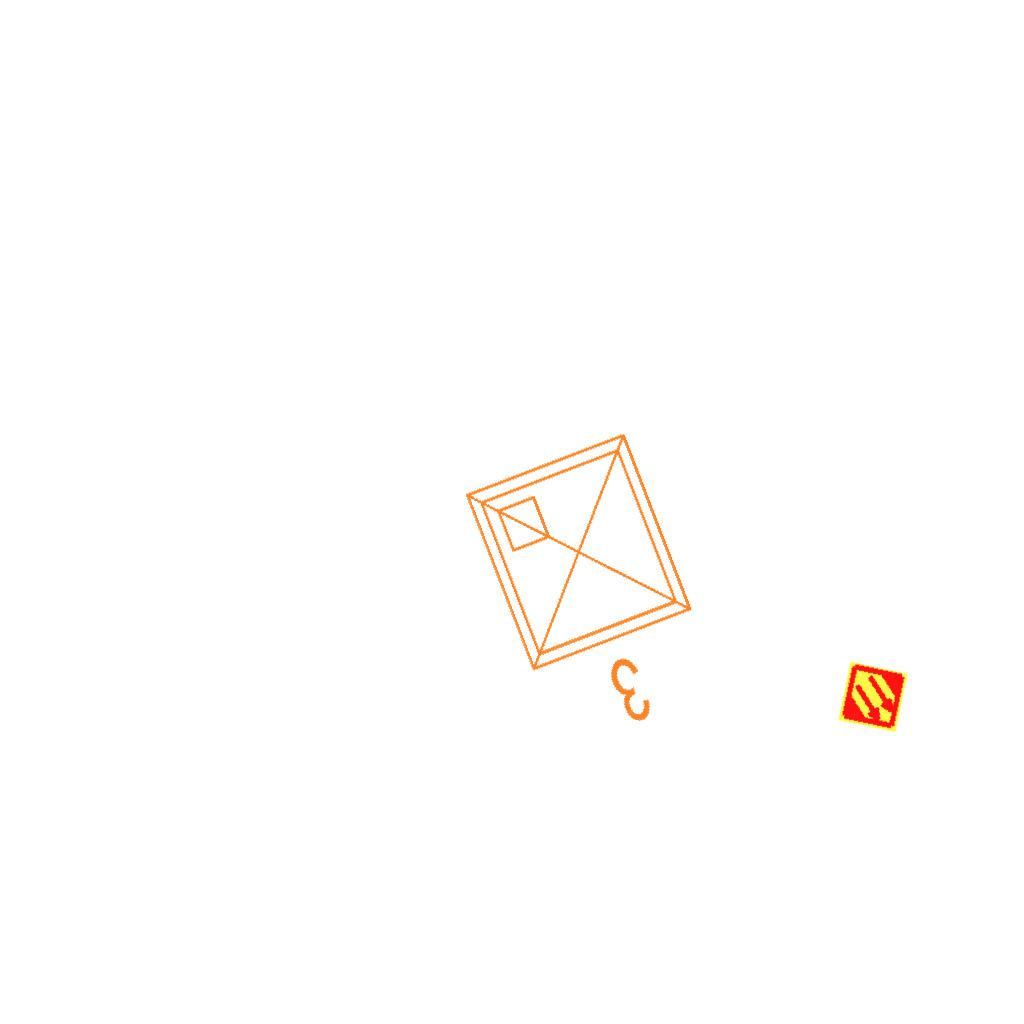ASR_Ansaugrauchmelder: (836, 660, 910, 734)
Einbaudownlights_LED_Konferenzraeume: (446, 411, 748, 767)
